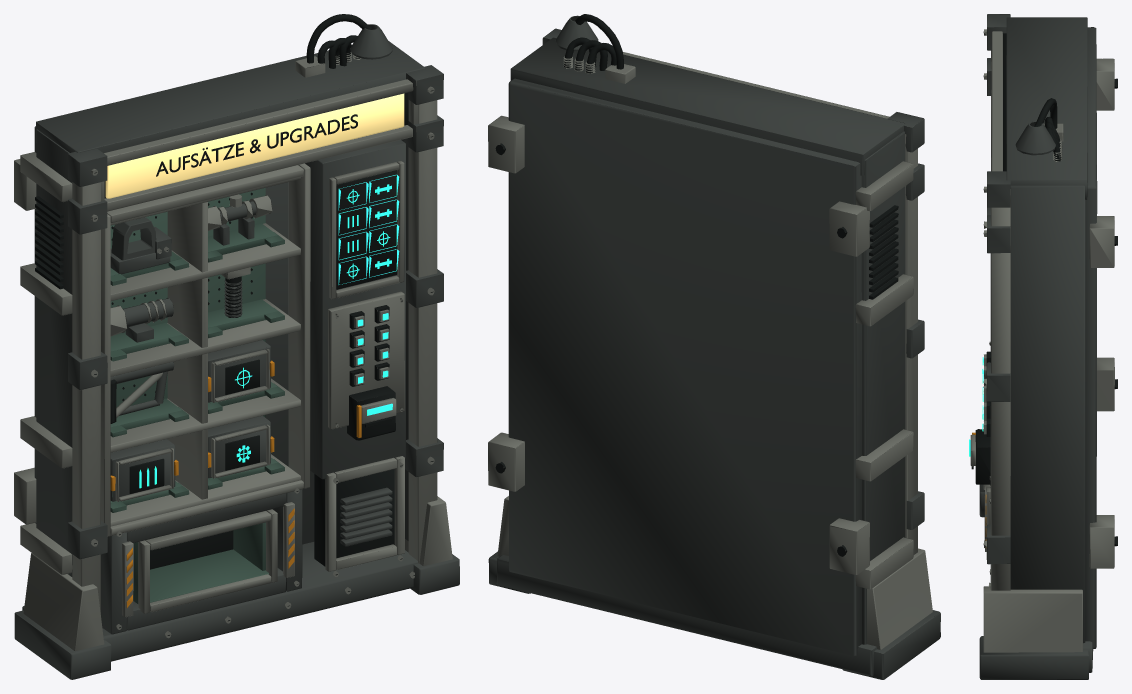
Rendered from gear_rack.glb.
The picture shows the model from 3 angles, left to right: view 1: azimuth 30°, elevation 25°; view 2: azimuth 150°, elevation 25°; view 3: azimuth 270°, elevation 25°; orthographic projection. The views are drawn at different scales.
Visible parts, largest first — view 1: gear_rack; view 2: gear_rack; view 3: gear_rack.
Part boxes in pixels (<box>): gear_rack: <box>14,14,459,679</box>; gear_rack: <box>488,14,940,679</box>; gear_rack: <box>969,14,1117,679</box>.
Size of the model in its own units: 1.59 by 2.2 by 0.549.
Materials: 1 (1 with a texture image).
